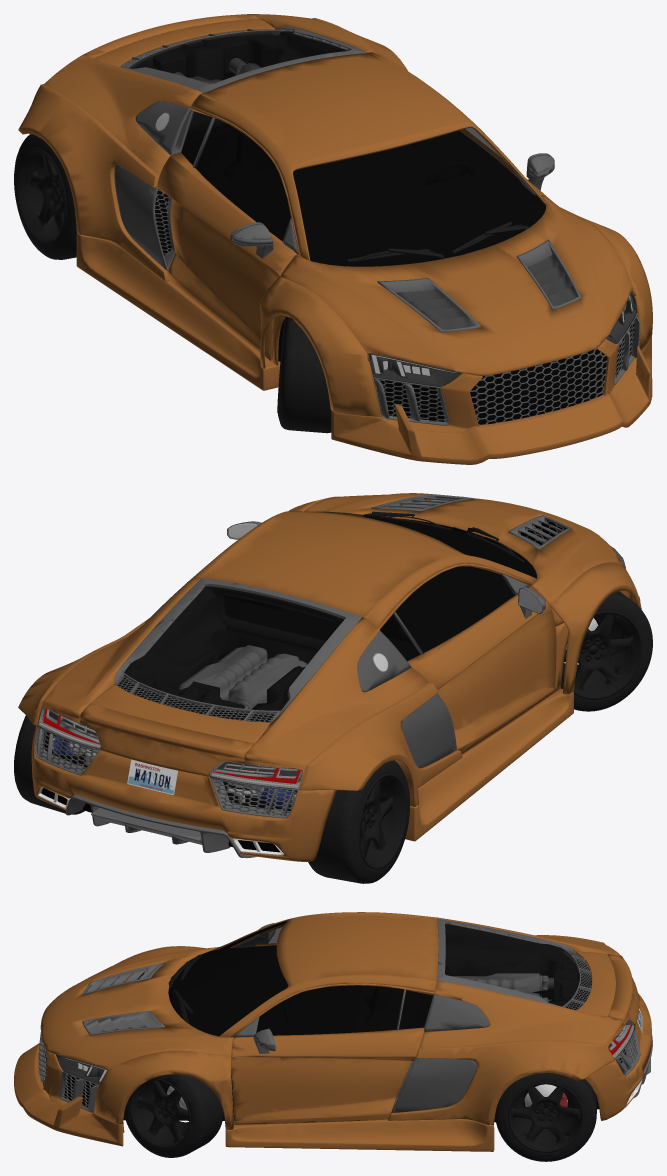
Rendered from audi-r8.glb.
3 views of the same model, one above another, from view 1: azimuth 30°, elevation 25°; view 2: azimuth 150°, elevation 25°; view 3: azimuth 270°, elevation 25° (orthographic). The views are drawn at different scales.
Parts seen in each view (by area): view 1: custom hood, Plane.010, Doors.014, Doors.009, Doors, Front Bumper.005, Doors.016, Hood.003, Doors.001, Doors.018, Plane.007, Plane (+25 smaller); view 2: Doors.009, Plane, Doors.001, Doors, Doors.011, Plane.010, Doors.015, custom hood, Doors.016, Doors.018, Plane.007, Doors.005 (+30 smaller); view 3: Doors, Plane.010, Doors.009, custom hood, Doors.016, Doors.001, Doors.014, Doors.018, Plane.007, Plane, Hood.003, Doors.015 (+25 smaller).
Part boxes in pixels (x1,y1,x2,y2): custom hood: (280, 195, 635, 375); Plane.010: (181, 130, 545, 266); Doors.014: (293, 126, 545, 265); Doors.009: (191, 52, 545, 260); Doors: (157, 129, 552, 360); Front Bumper.005: (331, 336, 652, 464); Doors.016: (18, 18, 407, 281); Hood.003: (260, 207, 652, 416); Doors.001: (44, 14, 372, 187); Doors.018: (76, 232, 280, 390); Plane.007: (181, 111, 514, 241); Plane: (129, 30, 346, 83); Doors.009: (189, 511, 536, 627); Plane: (124, 586, 343, 710); Doors.001: (36, 577, 429, 789); Doors: (407, 586, 556, 754); Doors.011: (31, 726, 337, 861); Plane.010: (224, 517, 536, 660); Doors.015: (124, 586, 343, 710); custom hood: (304, 493, 622, 626); Doors.016: (18, 618, 462, 806); Doors.018: (405, 688, 573, 841); Plane.007: (380, 566, 516, 660); Doors.005: (79, 703, 254, 776); Doors: (231, 943, 424, 1124); Plane.010: (168, 945, 432, 1037); Doors.009: (218, 912, 438, 1037); custom hood: (40, 946, 233, 1071); Doors.016: (388, 935, 614, 1125); Doors.001: (416, 917, 624, 1056); Doors.014: (173, 920, 287, 1036); Doors.018: (225, 1119, 494, 1151); Plane.007: (256, 925, 432, 1035); Plane: (445, 923, 579, 1006); Hood.003: (93, 946, 233, 1129); Doors.015: (445, 924, 573, 1006).
Bounding box in the file's own units: 32.61 × 17.5 × 62.56.
14 materials, 4 textured.
